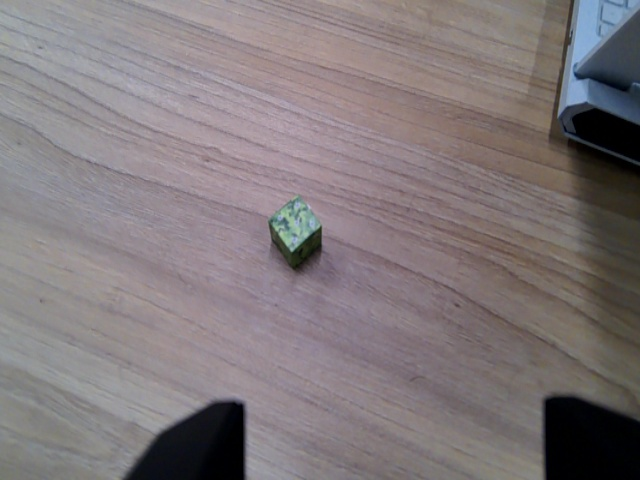grass: (268, 194, 324, 269)
